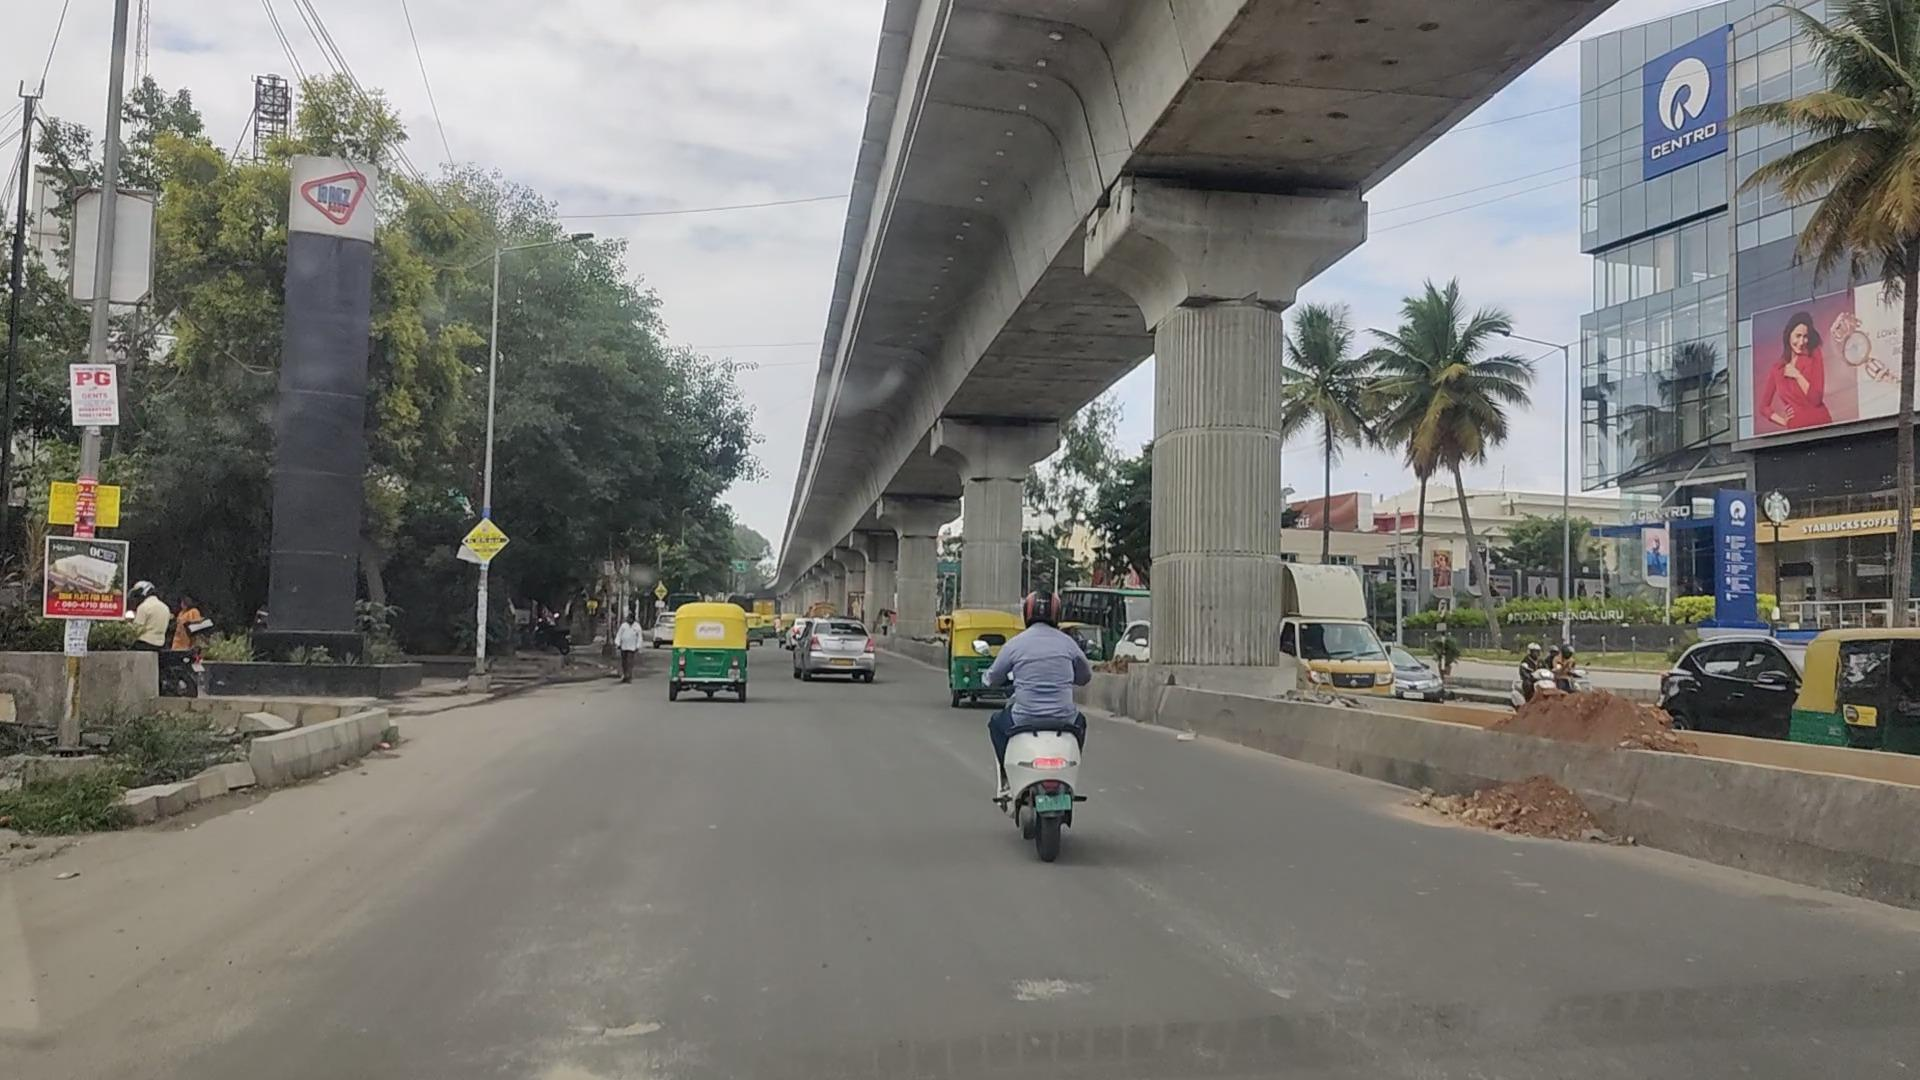LMV: (988, 570, 1102, 861), (666, 596, 749, 698)
RoadDamages: (992, 935, 1105, 1040)
